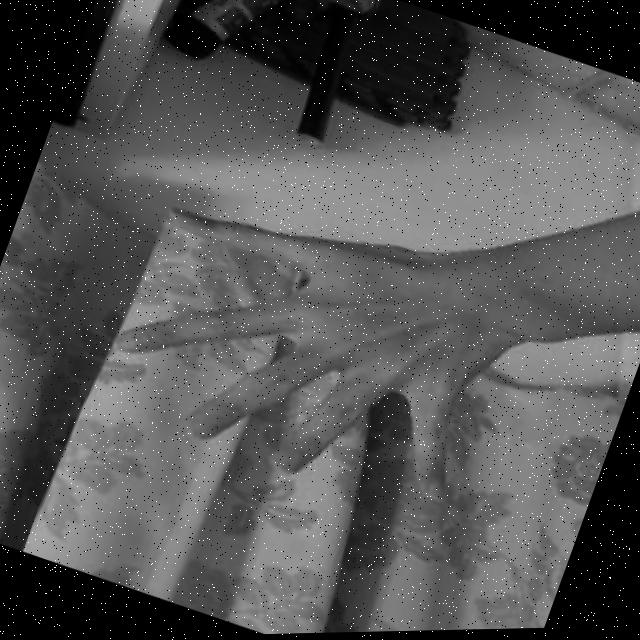hand: (90, 161, 524, 534)
